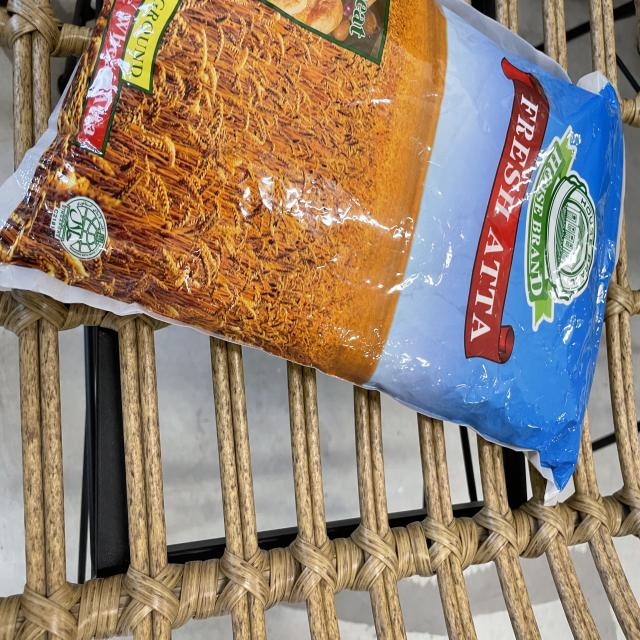object_name: (21, 13, 591, 420)
